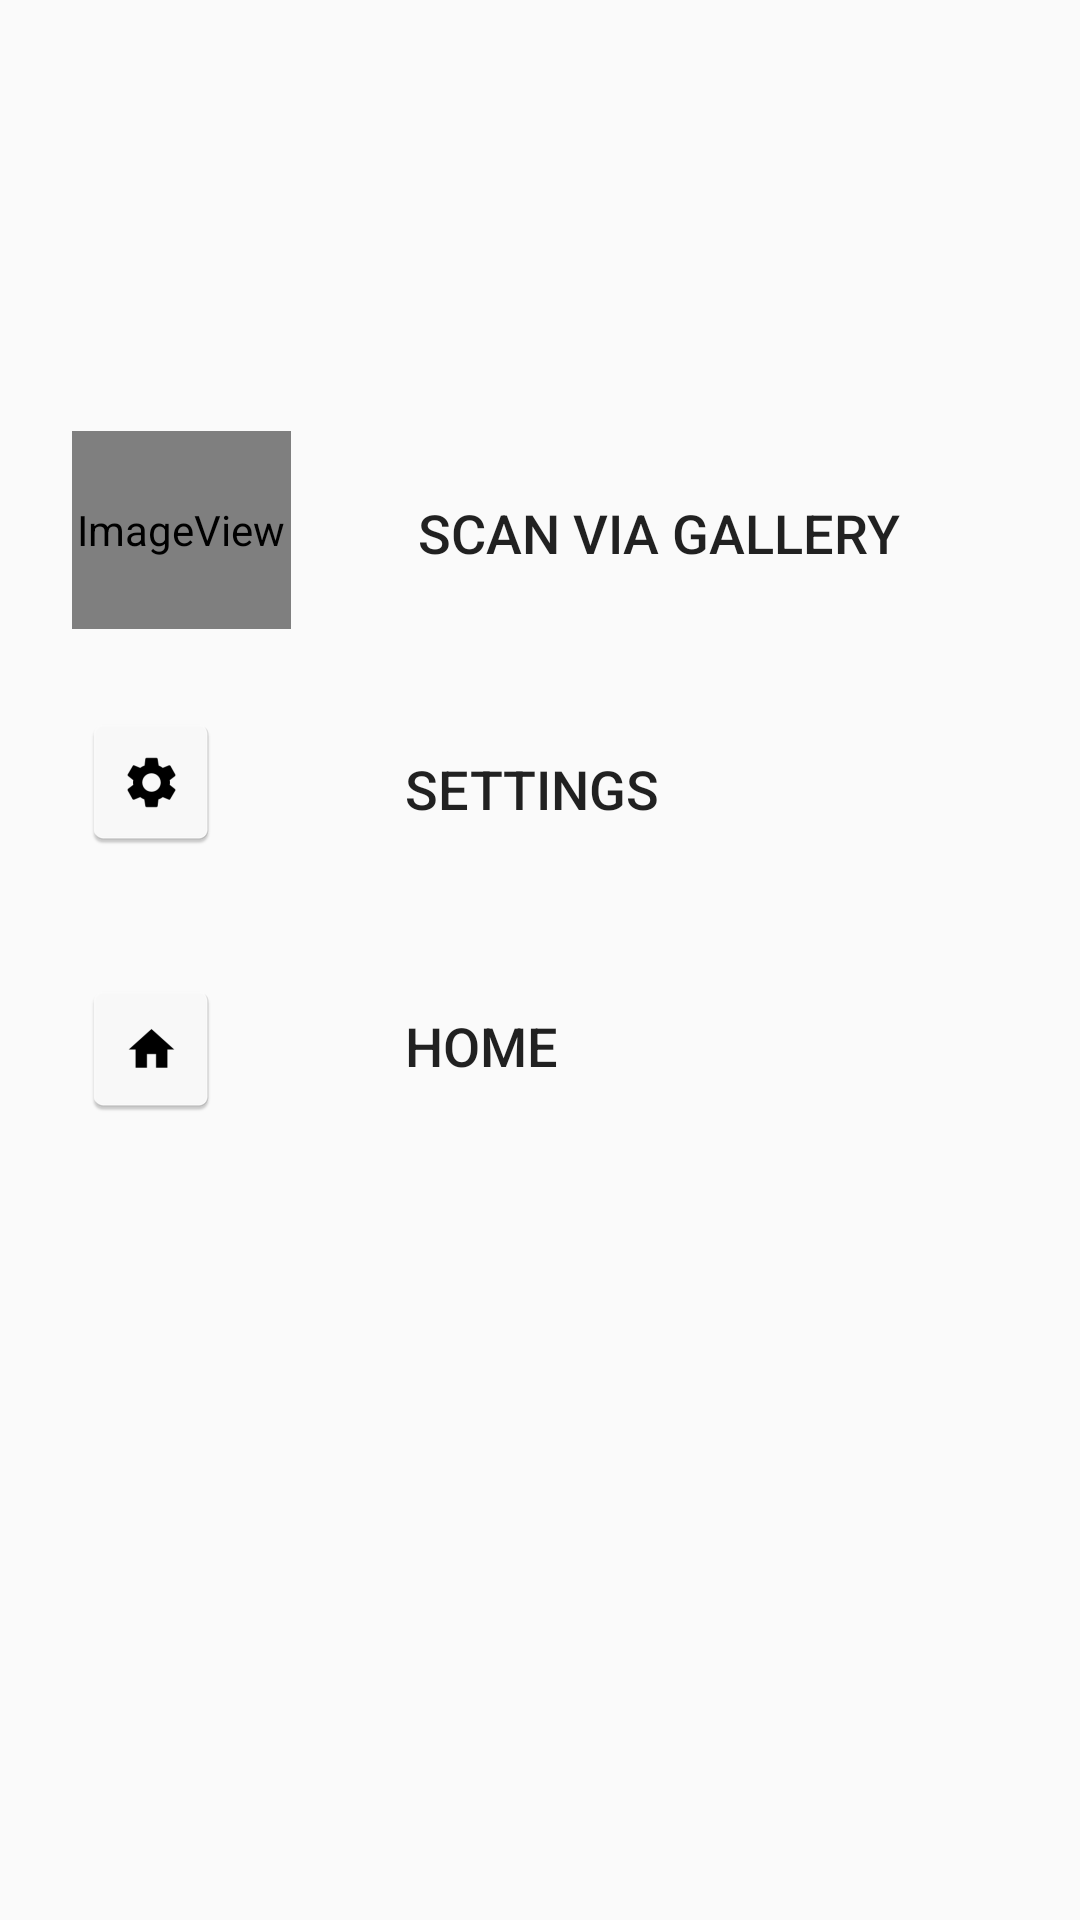

Icons on this 1080 x 1920 Android screen, each with the point to tap as [x,y]:
home: [151,1054]
settings: [151,787]
